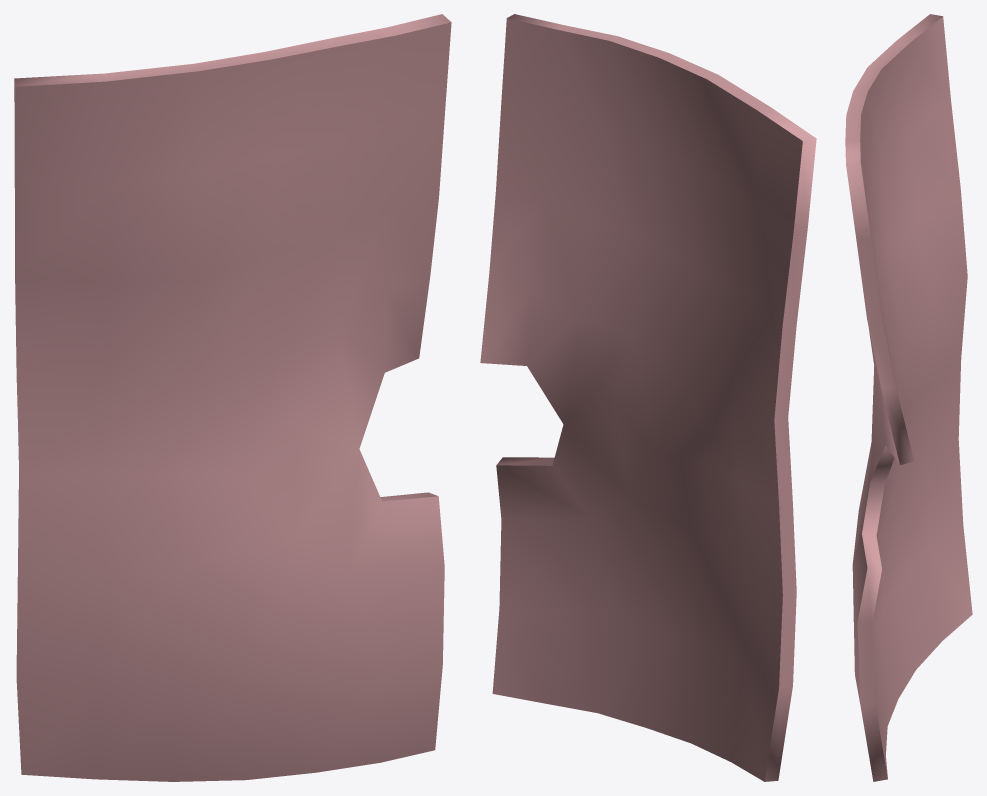
3 renders of one model, left to right at view 1: azimuth 30°, elevation 25°; view 2: azimuth 150°, elevation 25°; view 3: azimuth 270°, elevation 25°, orthographic. The views are drawn at different scales.
Visible parts, largest first — view 1: ZA_4321fe877f8fe298; view 2: ZA_4321fe877f8fe298; view 3: ZA_4321fe877f8fe298.
Part boxes in pixels (x1,y1,x2,y2): ZA_4321fe877f8fe298: (14,14,451,781); ZA_4321fe877f8fe298: (480,14,816,781); ZA_4321fe877f8fe298: (845,14,972,781).
Bounding box in the file's own units: 0.075 × 0.1381 × 0.0257.
